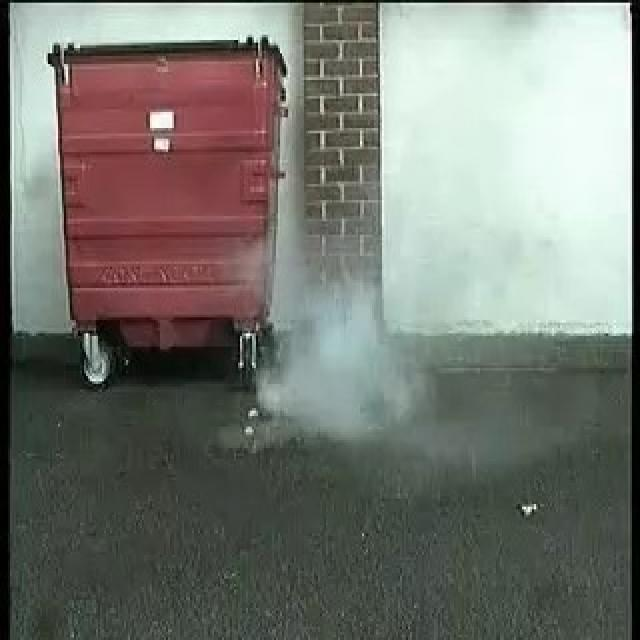smoke: (252, 266, 414, 426)
